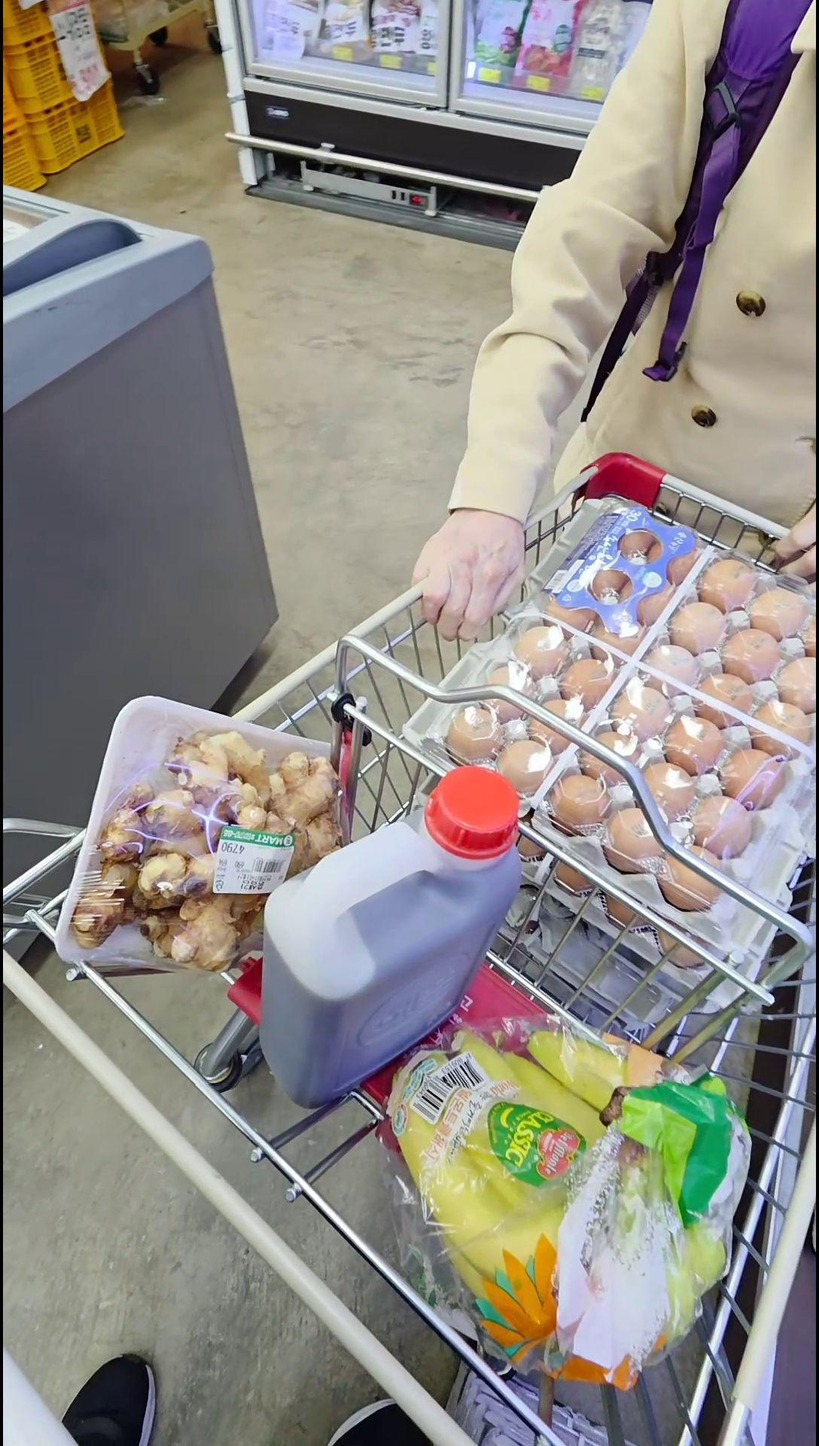fully_cart: (0, 446, 818, 1445)
